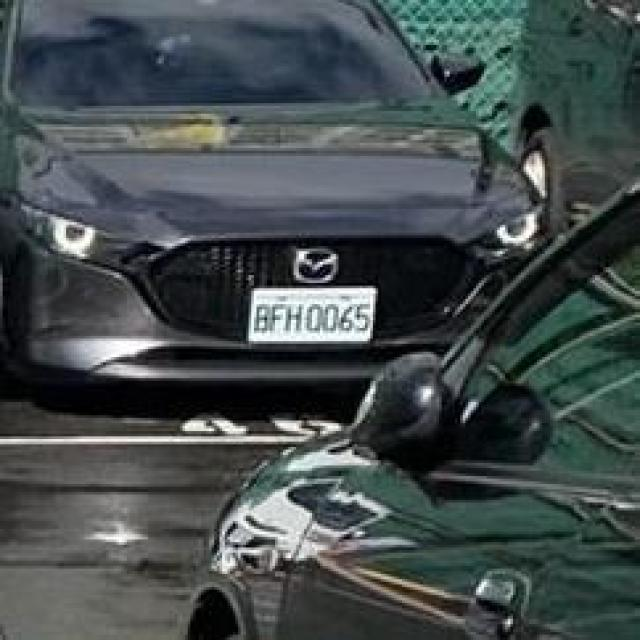W: (233, 272, 391, 357)
